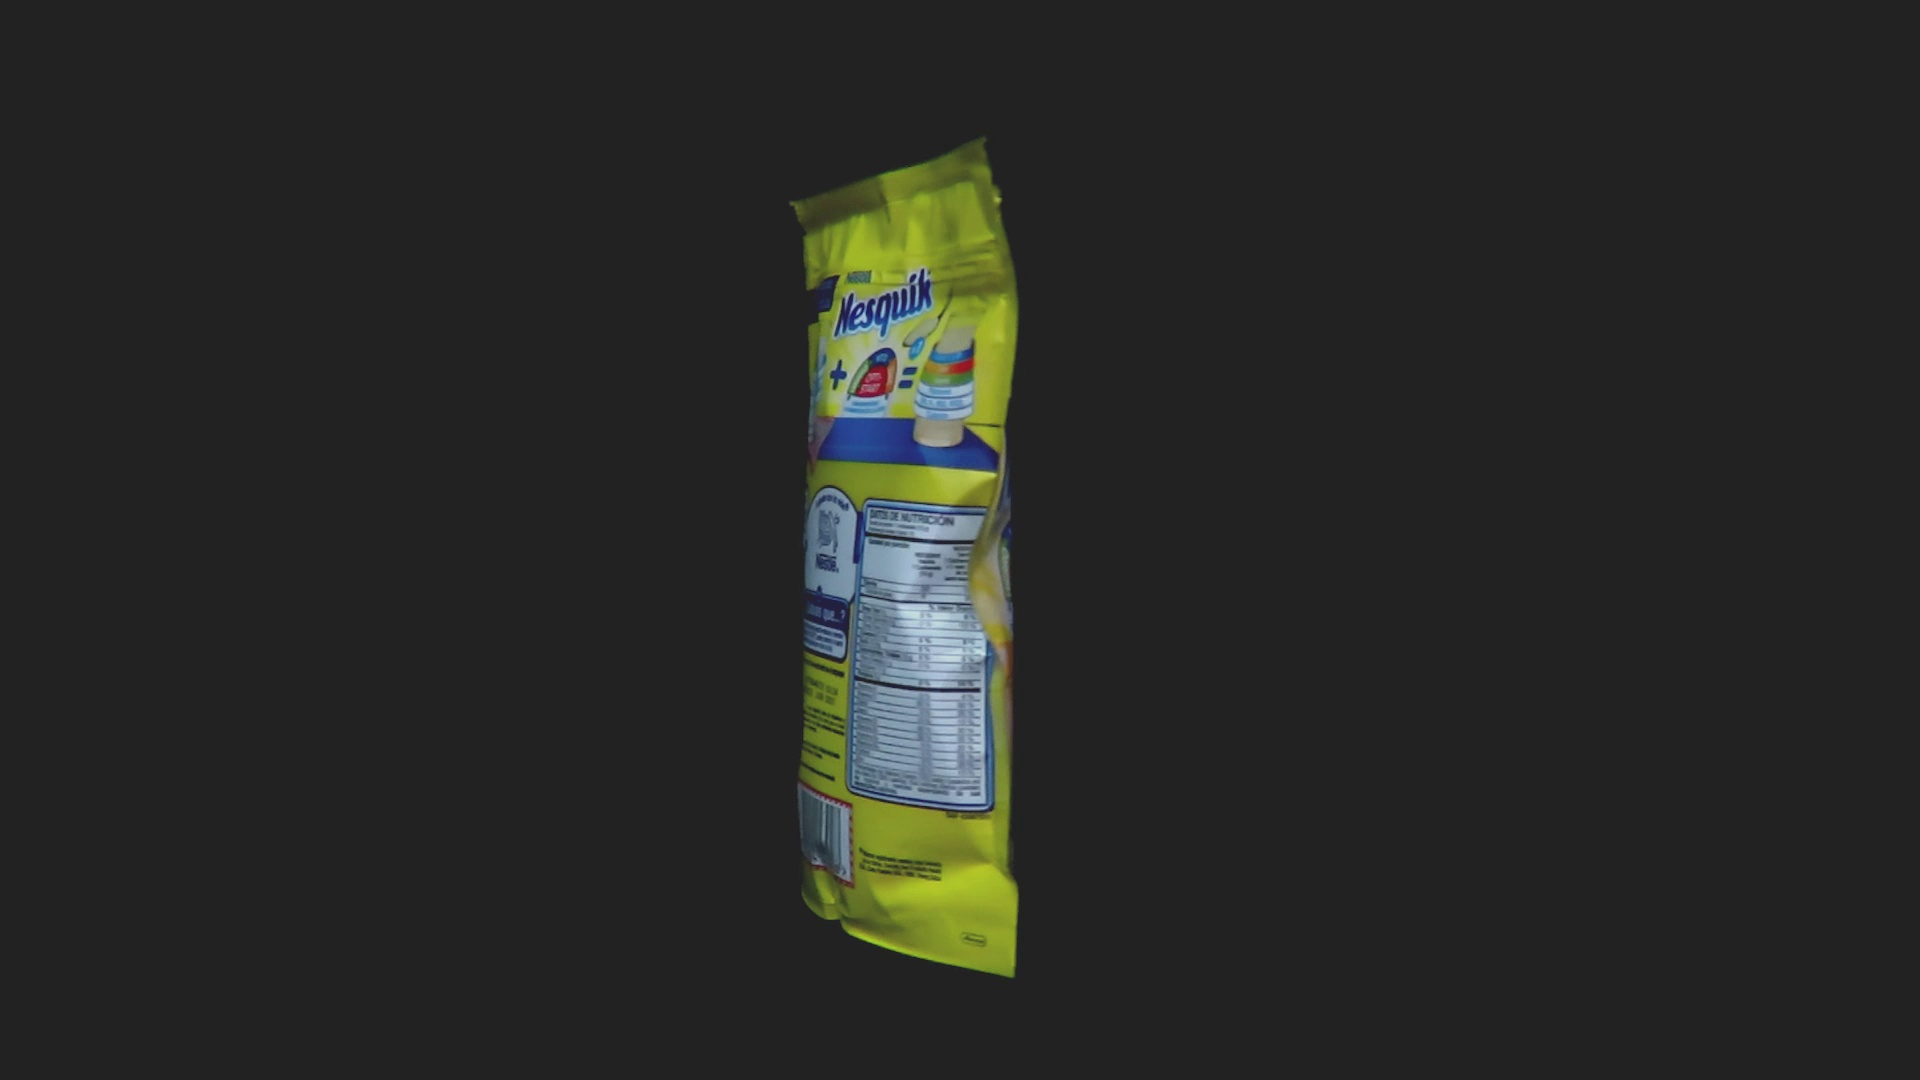COL0170306DYP20000: (785, 187, 1025, 984)
